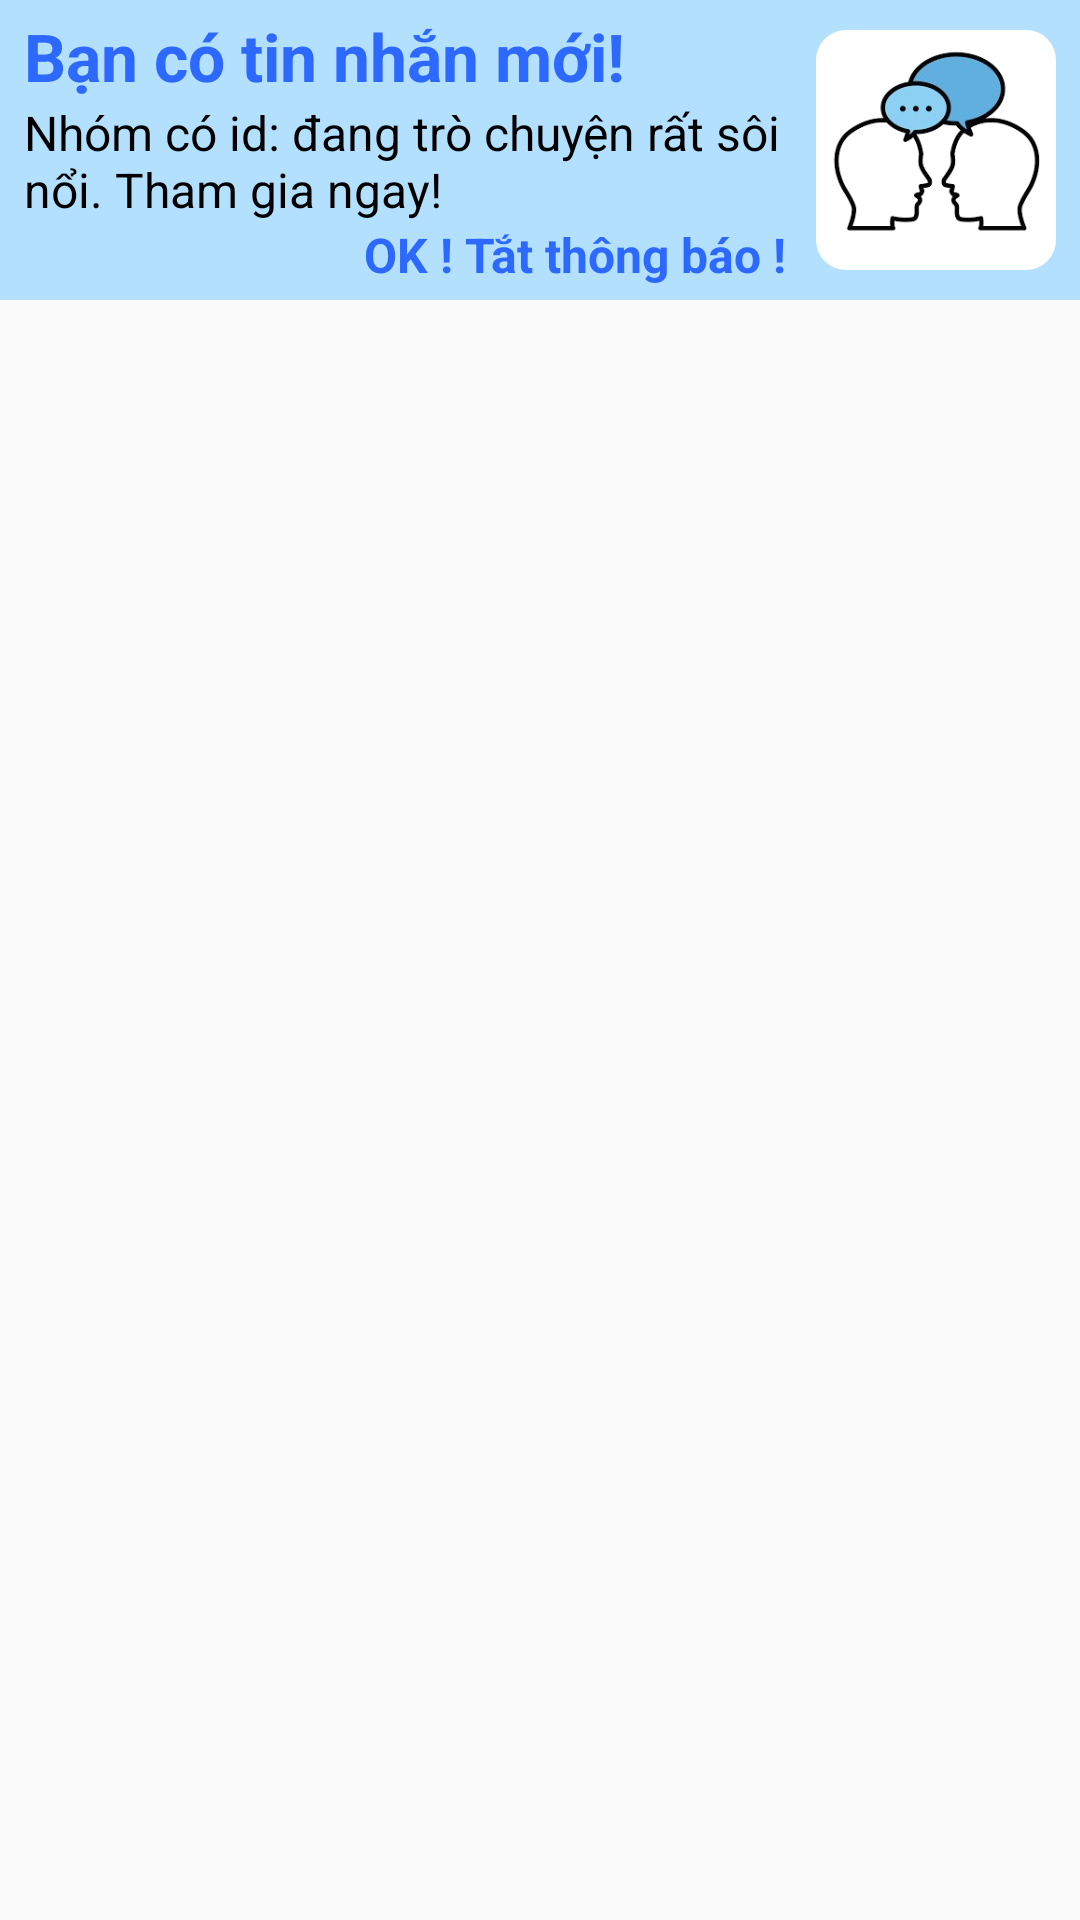

Icon bounding boxes for this 1080*1920 phone screenshot, format (x1, y1, x2, y2):
talk: (834, 52, 1040, 231)
